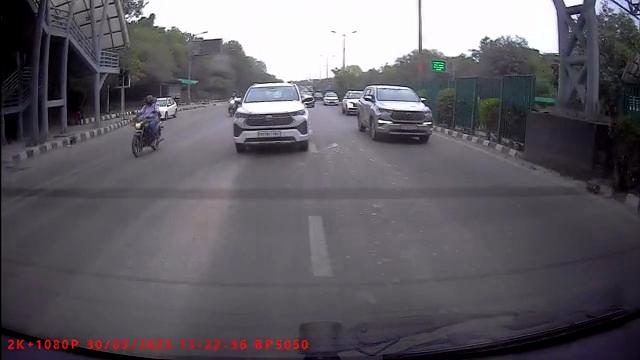motorcycle_with_helmet: (129, 93, 165, 159)
